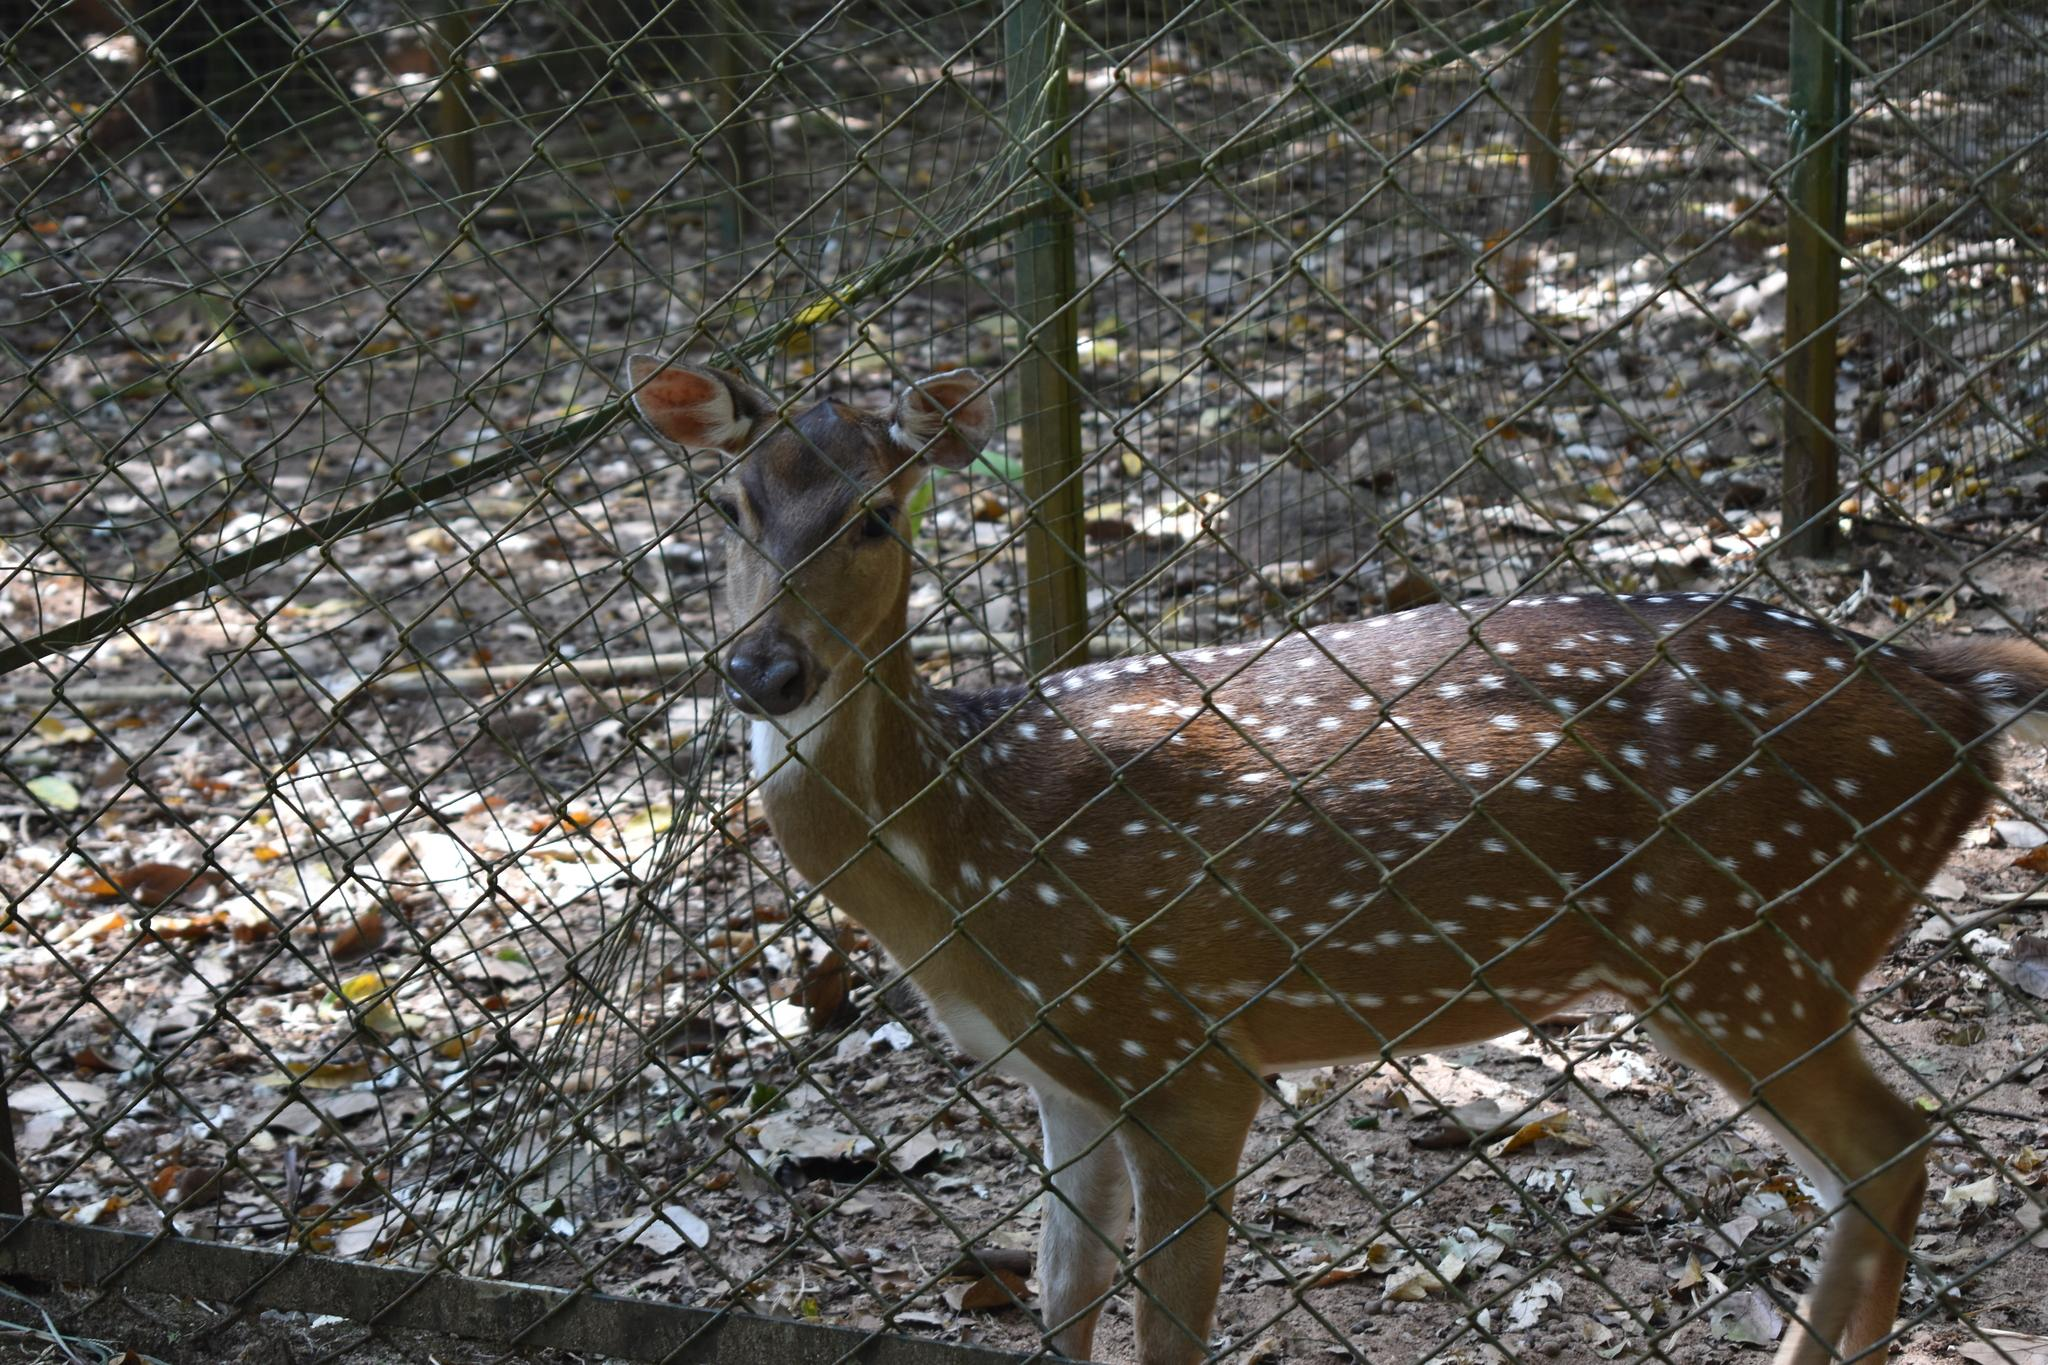Deer: (630, 356, 2046, 1363)
